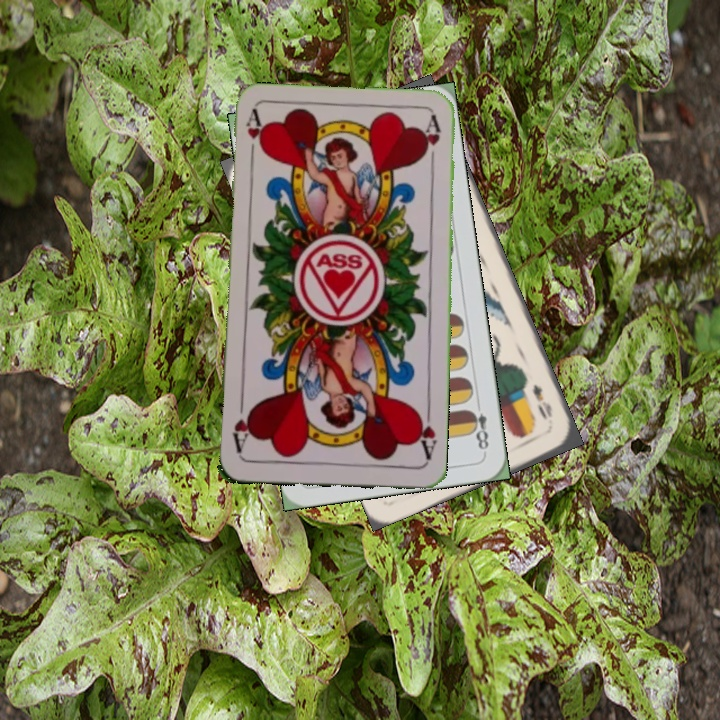E8: (465, 396, 491, 456)
EO: (528, 380, 555, 423)
HA: (412, 404, 439, 463), (242, 107, 264, 167)
